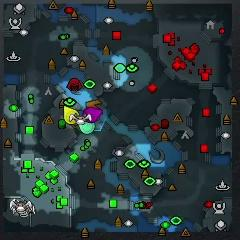p2: (79, 119, 95, 133)
p3: (84, 107, 102, 122)
p4: (63, 103, 78, 125)
x5: (86, 100, 100, 107)
